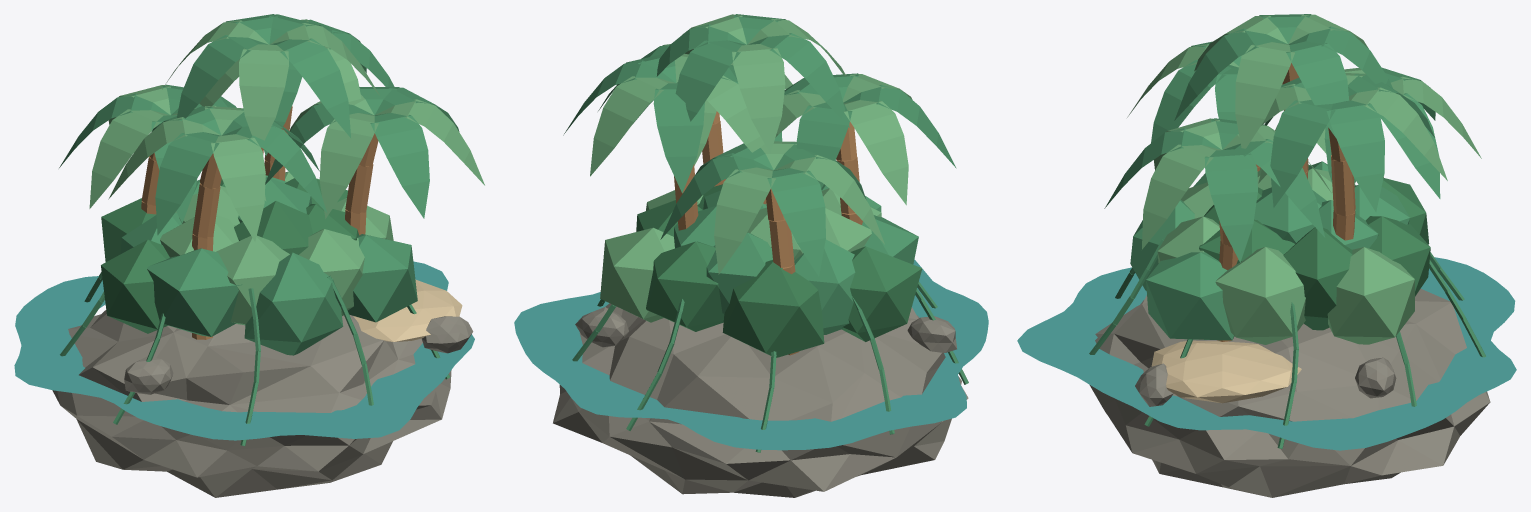
The model's file is diorama-second.glb.
3 views of the same model, side by side, from view 1: azimuth 30°, elevation 25°; view 2: azimuth 150°, elevation 25°; view 3: azimuth 270°, elevation 25° (orthographic). The views are drawn at different scales.
Parts seen in each view (by area): view 1: Island | lumpy rock raft, Ocean | irregular shore skirt, Jungle | foliage clump.015, Jungle | foliage clump.012, Jungle | foliage clump.018, Jungle | foliage clump.017, Palm | drooping frond.005, Palm | drooping frond.031, Palm | drooping frond.025, Palm | drooping frond.004, Palm | drooping frond.024, Jungle | foliage clump.007 (+38 smaller); view 2: Island | lumpy rock raft, Ocean | irregular shore skirt, Jungle | foliage clump.014, Jungle | foliage clump.011, Jungle | foliage clump.017, Jungle | foliage clump.016, Palm | drooping frond.029, Palm | drooping frond.016, Palm | drooping frond.015, Palm | drooping frond.003, Palm | drooping frond.009, Jungle | foliage clump.009 (+27 smaller); view 3: Island | lumpy rock raft, Ocean | irregular shore skirt, Sand | small beach, Jungle | foliage clump.013, Jungle | foliage clump.016, Jungle | foliage clump.018, Jungle | foliage clump.008, Palm | drooping frond.027, Palm | drooping frond.007, Palm | drooping frond.033, Palm | drooping frond.013, Palm | drooping frond.026 (+30 smaller).
Boxes of the visible parts, <box> form: Island | lumpy rock raft: <box>52,310,451,497</box>; Ocean | irregular shore skirt: <box>14,261,474,440</box>; Jungle | foliage clump.015: <box>244,252,343,355</box>; Jungle | foliage clump.012: <box>147,248,242,336</box>; Jungle | foliage clump.018: <box>348,234,417,322</box>; Jungle | foliage clump.017: <box>101,239,169,333</box>; Palm | drooping frond.005: <box>211,134,265,241</box>; Palm | drooping frond.031: <box>239,44,288,147</box>; Palm | drooping frond.025: <box>370,113,429,218</box>; Palm | drooping frond.004: <box>155,132,220,235</box>; Palm | drooping frond.024: <box>319,113,378,218</box>; Jungle | foliage clump.007: <box>216,235,289,325</box>; Island | lumpy rock raft: <box>553,303,968,497</box>; Ocean | irregular shore skirt: <box>514,259,988,450</box>; Jungle | foliage clump.014: <box>722,260,824,357</box>; Jungle | foliage clump.011: <box>646,241,724,331</box>; Jungle | foliage clump.017: <box>842,246,922,341</box>; Jungle | foliage clump.016: <box>600,227,674,322</box>; Palm | drooping frond.029: <box>732,44,785,153</box>; Palm | drooping frond.016: <box>767,168,825,276</box>; Palm | drooping frond.015: <box>714,167,775,274</box>; Palm | drooping frond.003: <box>843,100,908,205</box>; Palm | drooping frond.009: <box>653,83,704,192</box>; Jungle | foliage clump.009: <box>794,239,855,334</box>; Island | lumpy rock raft: <box>1089,288,1490,497</box>; Ocean | irregular shore skirt: <box>1017,257,1516,450</box>; Sand | small beach: <box>1151,340,1301,403</box>; Jungle | foliage clump.013: <box>1215,247,1305,344</box>; Jungle | foliage clump.016: <box>1327,247,1414,344</box>; Jungle | foliage clump.018: <box>1146,252,1234,340</box>; Jungle | foliage clump.008: <box>1283,227,1352,330</box>; Palm | drooping frond.027: <box>1204,149,1257,262</box>; Palm | drooping frond.007: <box>1326,100,1384,212</box>; Palm | drooping frond.033: <box>1235,42,1294,148</box>; Palm | drooping frond.013: <box>1270,100,1335,207</box>; Palm | drooping frond.026: <box>1142,144,1220,249</box>.
Size of the model in its own units: 0.2731 by 0.2587 by 0.2651.
